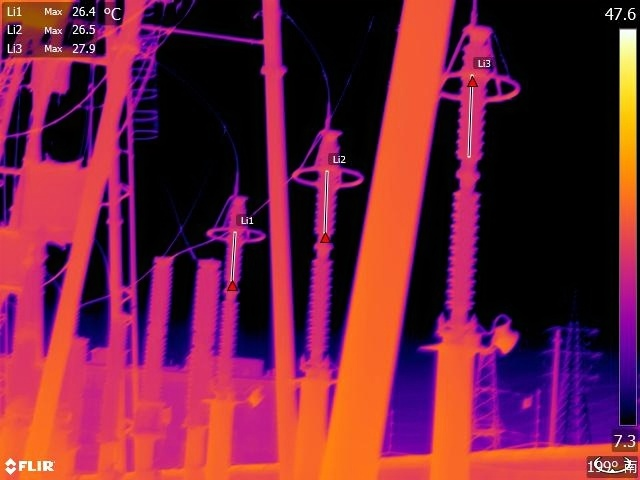lightning arrester: (414, 16, 526, 343), (289, 111, 365, 384), (195, 185, 266, 405)
potential transformer: (129, 247, 176, 439), (176, 247, 221, 434)
